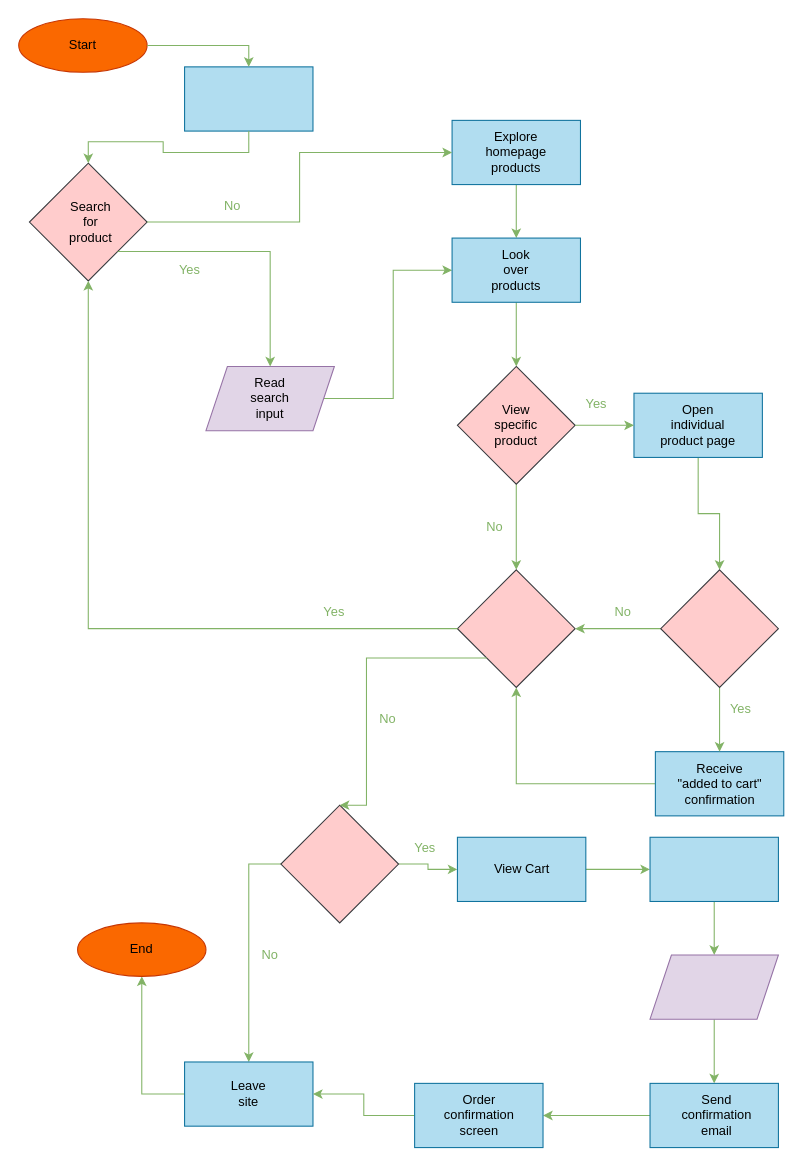
The diagram is 803 pixels wide and 1166 high, and some of its shapes have lost their labels. Here are the shapes that lost their labels. From the top down, the centre of each, then its label:
At pixel 248 98: "User enters site".
At pixel 515 628: "Continue shopping?".
At pixel 719 628: "Add item to cart".
At pixel 339 863: "Checkout".
At pixel 713 868: "View Payment".
At pixel 713 986: "Submit payment info".
